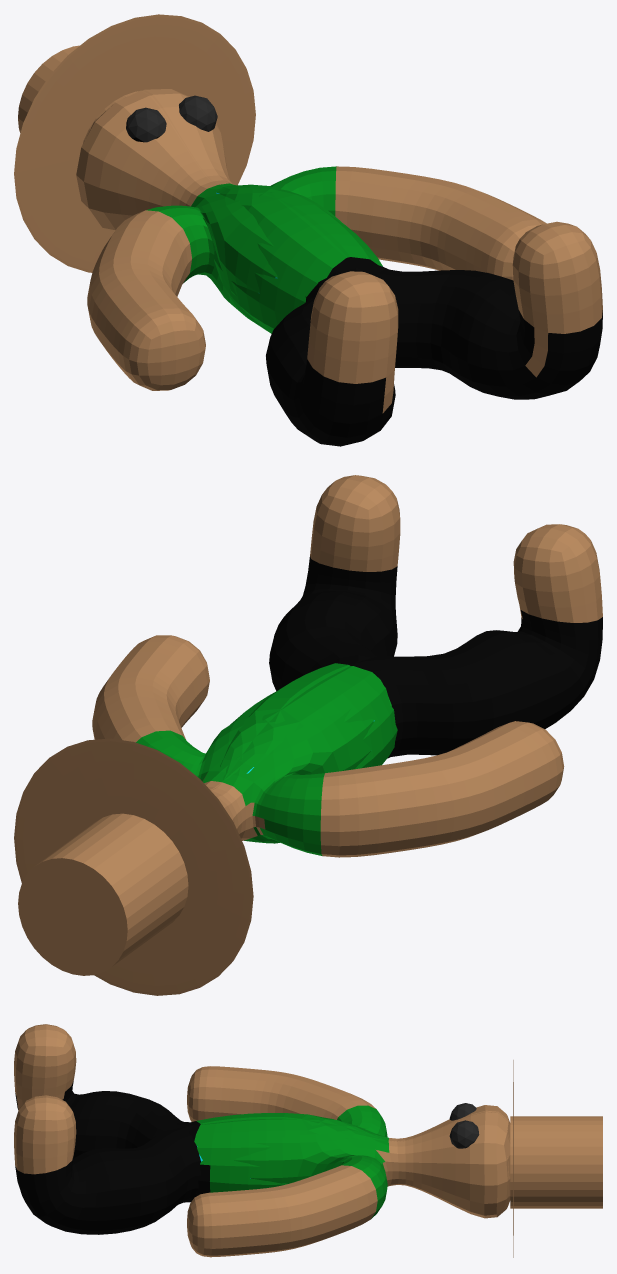
The model's file is citizen.fbx.
The picture shows the model from 3 angles, top to bottom: view 1: azimuth 30°, elevation 25°; view 2: azimuth 150°, elevation 25°; view 3: azimuth 270°, elevation 25°; orthographic projection. The views are drawn at different scales.
Parts seen in each view (by area): view 1: Plane; view 2: Plane; view 3: Plane.
Boxes of the visible parts, x1,y1,x2,y2 form: Plane: [14, 14, 602, 446]; Plane: [14, 475, 602, 995]; Plane: [14, 1024, 602, 1257].
Bounding box in the file's own units: 36.23 × 58.78 × 20.47.
